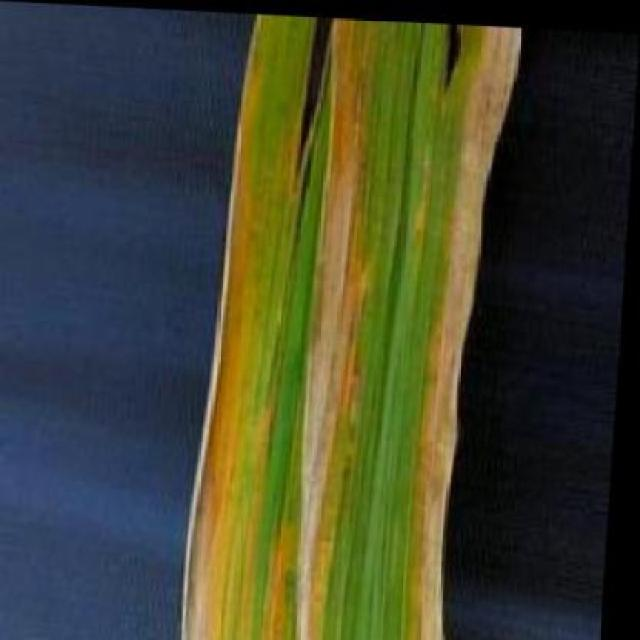Brown_Spot: (189, 9, 500, 640)
